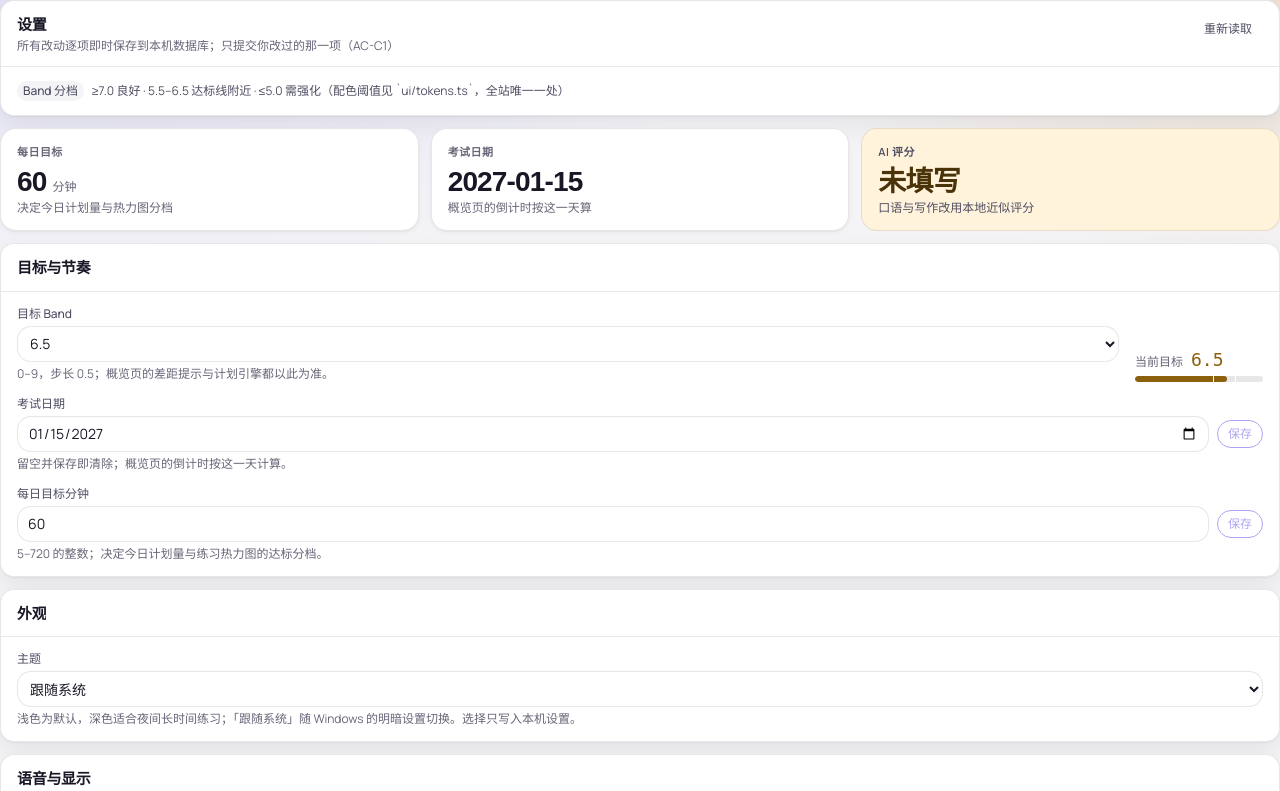
AC-C1 逐项 PATCH › 本地校验拦住注定 400 的请求：越界值不发 PATCH，错误就地可见
Expected: the dropdown labelled "目标 Band" shows "6.5", x1=17 y1=326 x2=1119 y2=362
Replace the text in the number field with id "setting-daily-goal" with "999" at {"x": 613, "y": 524}, box x1=17 y1=506 x2=1209 y2=542
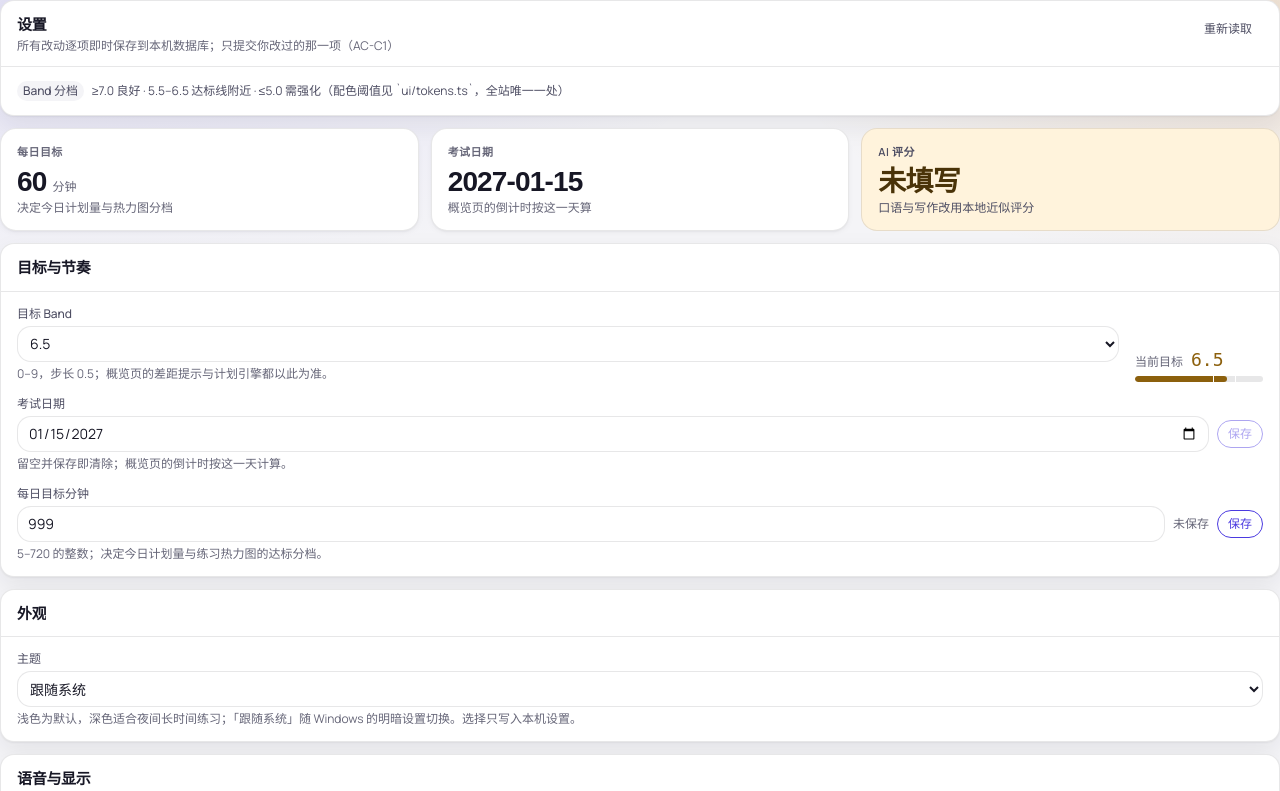
Click the button "保存" next to "未保存".
click(1240, 524)  # box x1=1217 y1=510 x2=1263 y2=538
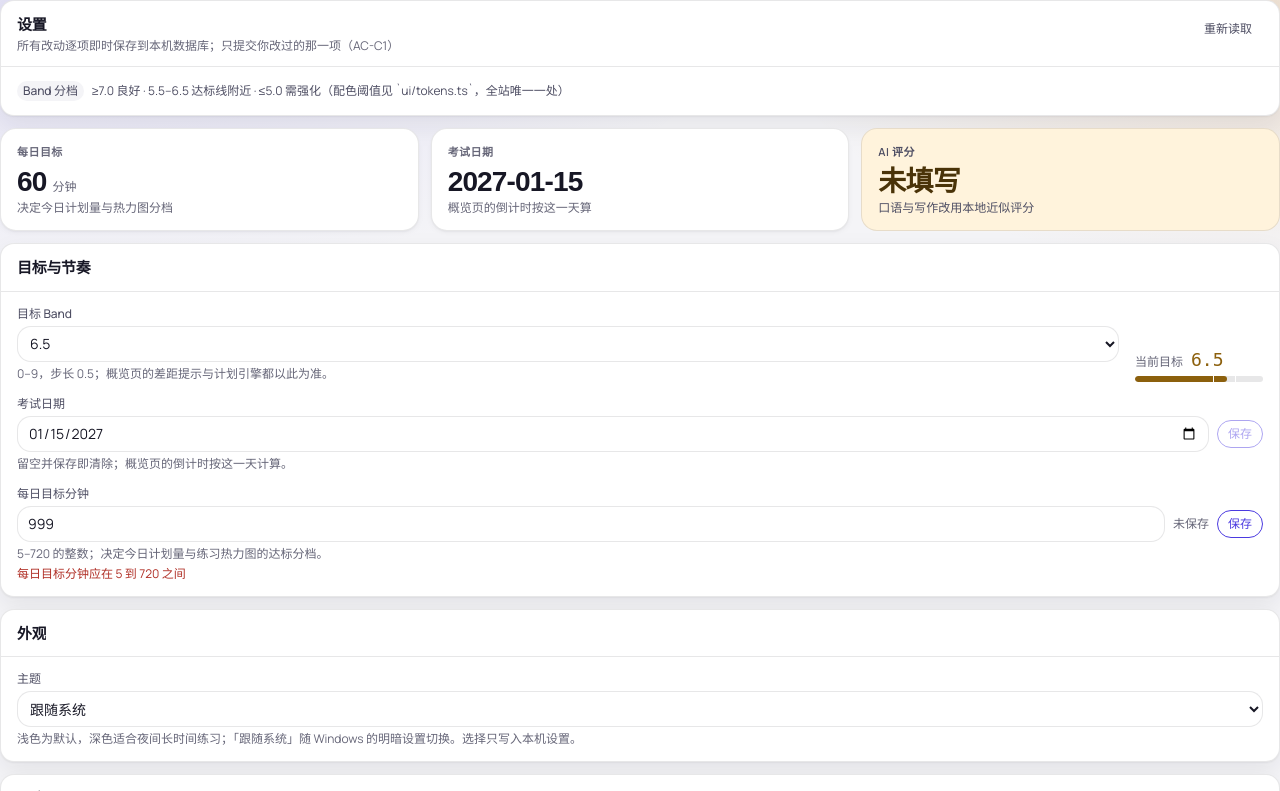
Now the message reads "每日目标分钟应在 5 到 720 之间", box x1=17 y1=565 x2=186 y2=582
